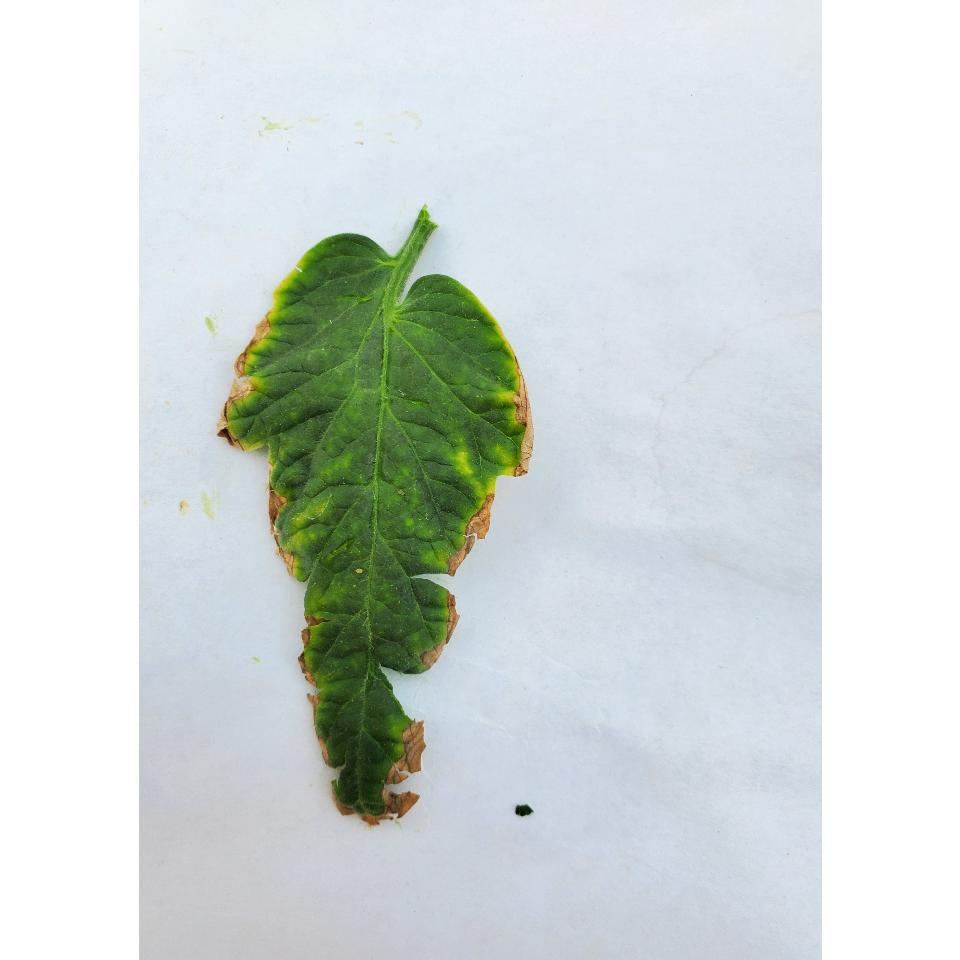tomato_bacterial_blight: (252, 267, 532, 832)
